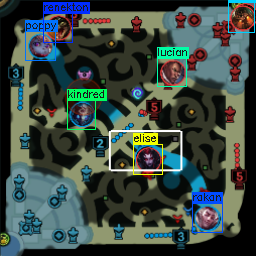elise: (136, 148, 160, 172)
kindred: (68, 102, 96, 126)
lucian: (160, 60, 184, 85)
nautilus: (231, 5, 256, 30)
poppy: (28, 33, 53, 58)
rakan: (193, 206, 220, 231)
renekton: (45, 14, 71, 39)
